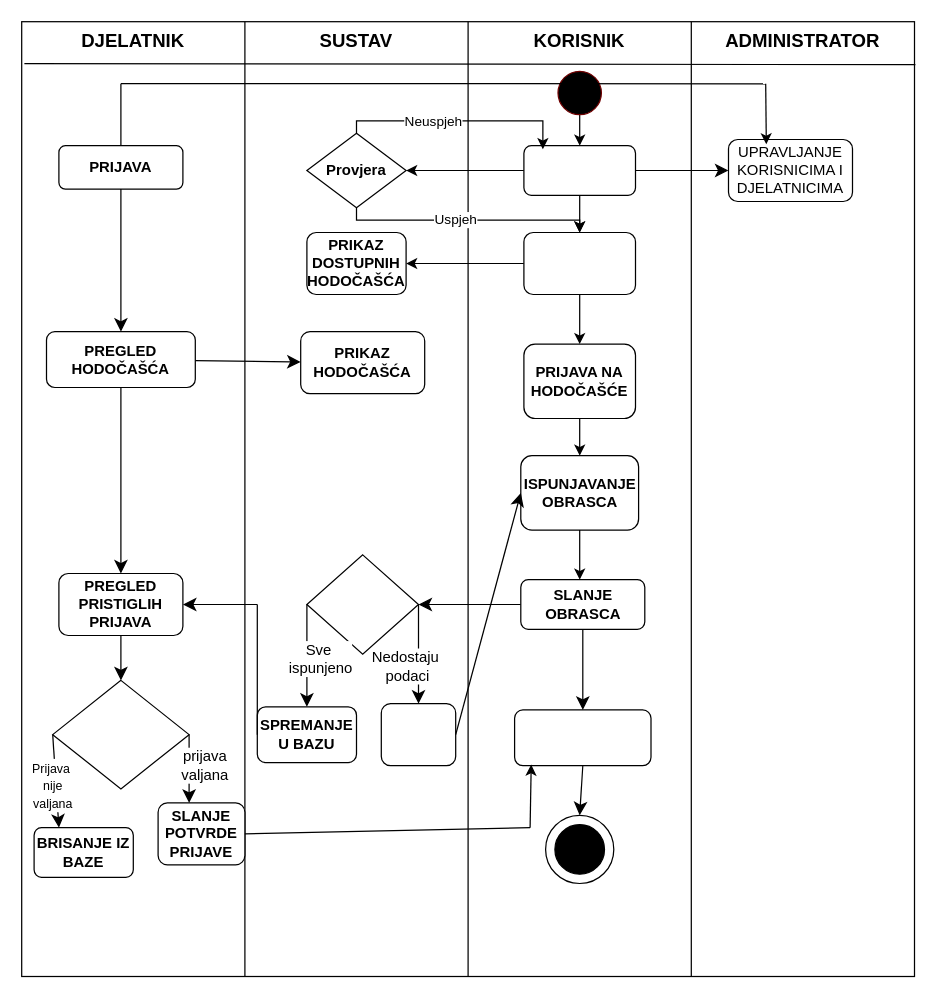
Some shapes in this 939 by 999 pixel diagram are drawn without their labels. Each missing label, with the box of its shape:
PREGLED DOSTUPNIH HODOČAŠĆA: (523, 231, 636, 294)
PROVJERA ISPUNJENOG OBRASCA: (51, 679, 189, 789)
REGISTRACIJA I PRIJAVA: (523, 144, 636, 195)
USPJEŠNA PRIJAVA NA HODOČAŠĆE: (513, 709, 651, 766)
VALIDACIJA PODATAKA: (306, 554, 418, 654)
ZAHTJEV ZA DOPUNU: (380, 702, 456, 766)
